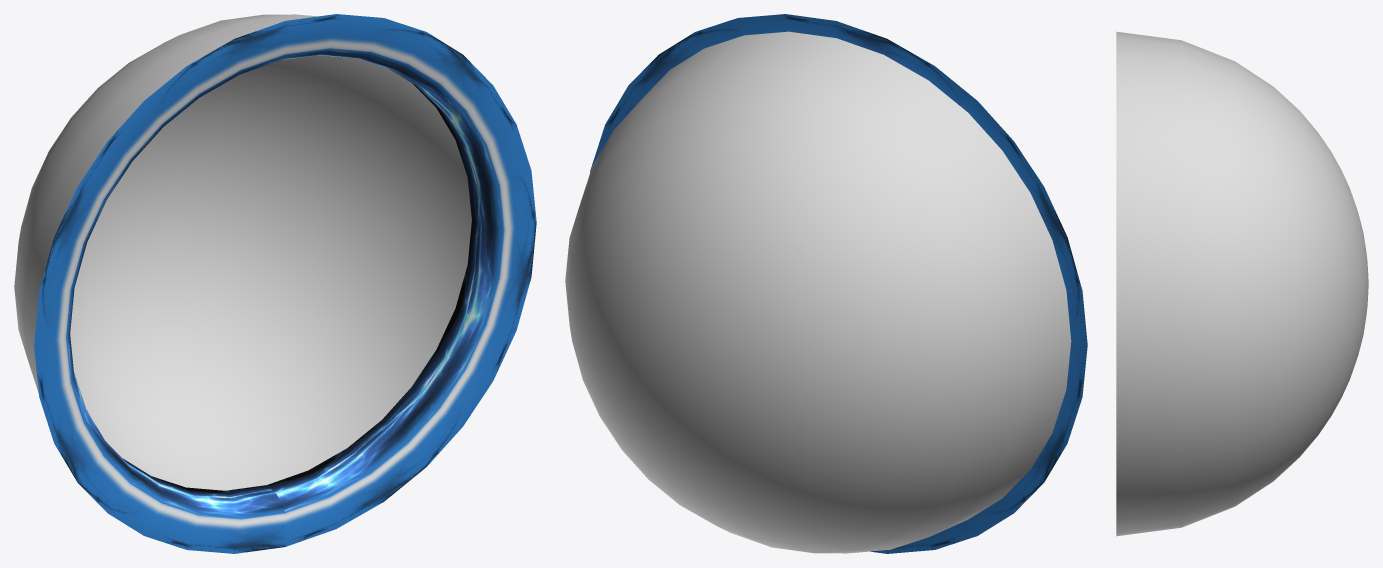
Rendered from Portal.fbx.
The picture shows the model from 3 angles, left to right: view 1: azimuth 30°, elevation 25°; view 2: azimuth 150°, elevation 25°; view 3: azimuth 270°, elevation 25°; orthographic projection. The views are drawn at different scales.
Parts seen in each view (by area): view 1: YT1803DPlayerCube, YT1803DPlayerCube.001; view 2: YT1803DPlayerCube, YT1803DPlayerCube.001; view 3: YT1803DPlayerCube.
Part boxes in pixels (x1=…): YT1803DPlayerCube: x1=14, y1=14, x2=471, y2=490; YT1803DPlayerCube.001: x1=34, y1=14, x2=536, y2=553; YT1803DPlayerCube: x1=565, y1=31, x2=1071, y2=553; YT1803DPlayerCube.001: x1=590, y1=14, x2=1087, y2=553; YT1803DPlayerCube: x1=1116, y1=31, x2=1368, y2=536.
Size of the model in its own units: 1.9 by 1.9 by 0.8881.
2 materials, 1 textured.
